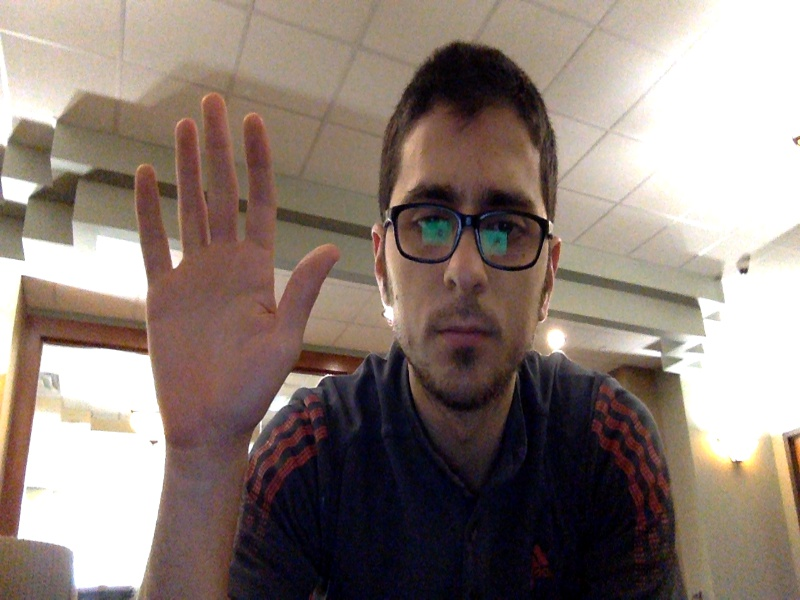5-hand: (137, 93, 337, 450)
